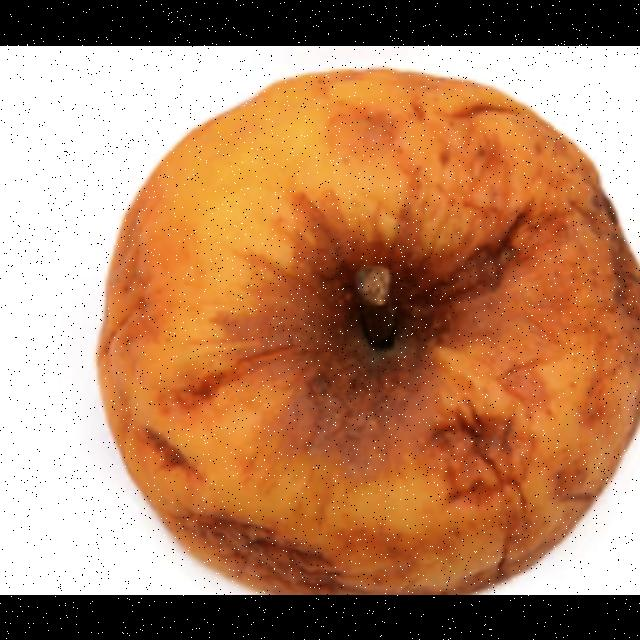Apel Tidak Segar: (86, 57, 640, 595)
